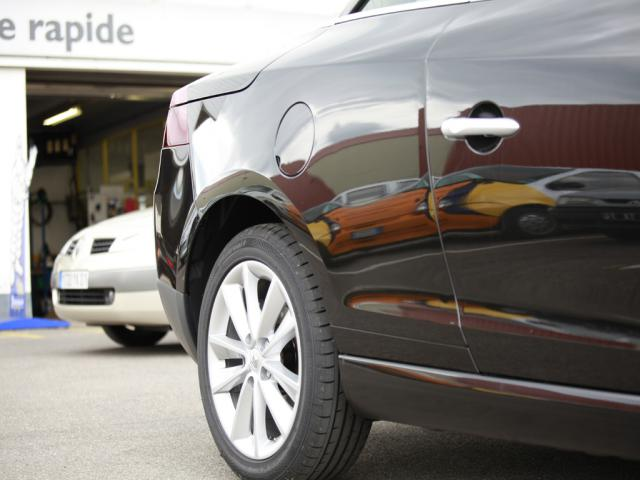Door-handle: (438, 116, 518, 142)
